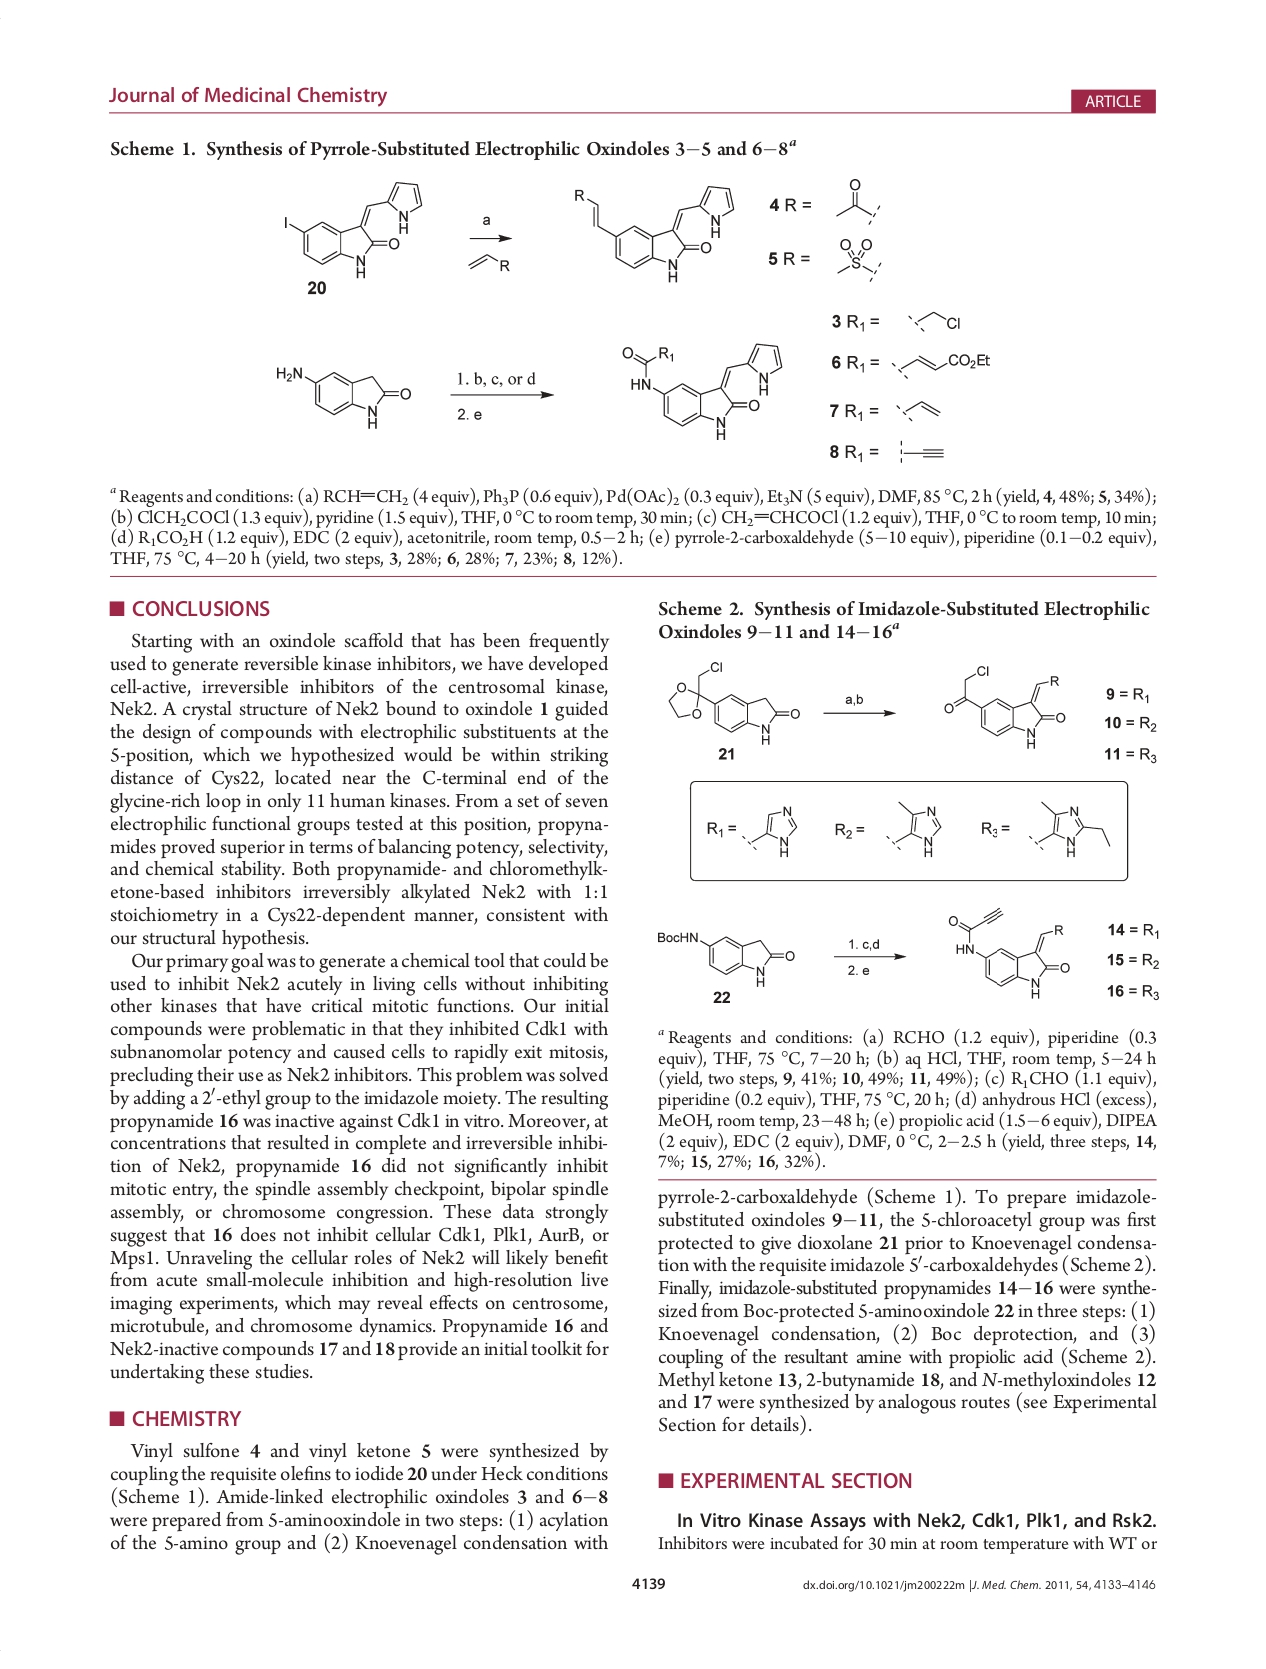exist_molecular: (618, 336, 783, 442), (570, 182, 737, 286), (281, 178, 423, 278), (942, 906, 1073, 1004), (665, 657, 801, 746), (265, 359, 416, 436), (942, 662, 1069, 751), (649, 922, 797, 991), (1025, 797, 1113, 862), (876, 797, 946, 862), (738, 805, 801, 862), (886, 351, 993, 380), (828, 173, 882, 226), (832, 233, 884, 285), (904, 307, 965, 338), (894, 438, 946, 467), (465, 250, 515, 281), (894, 396, 946, 424)
